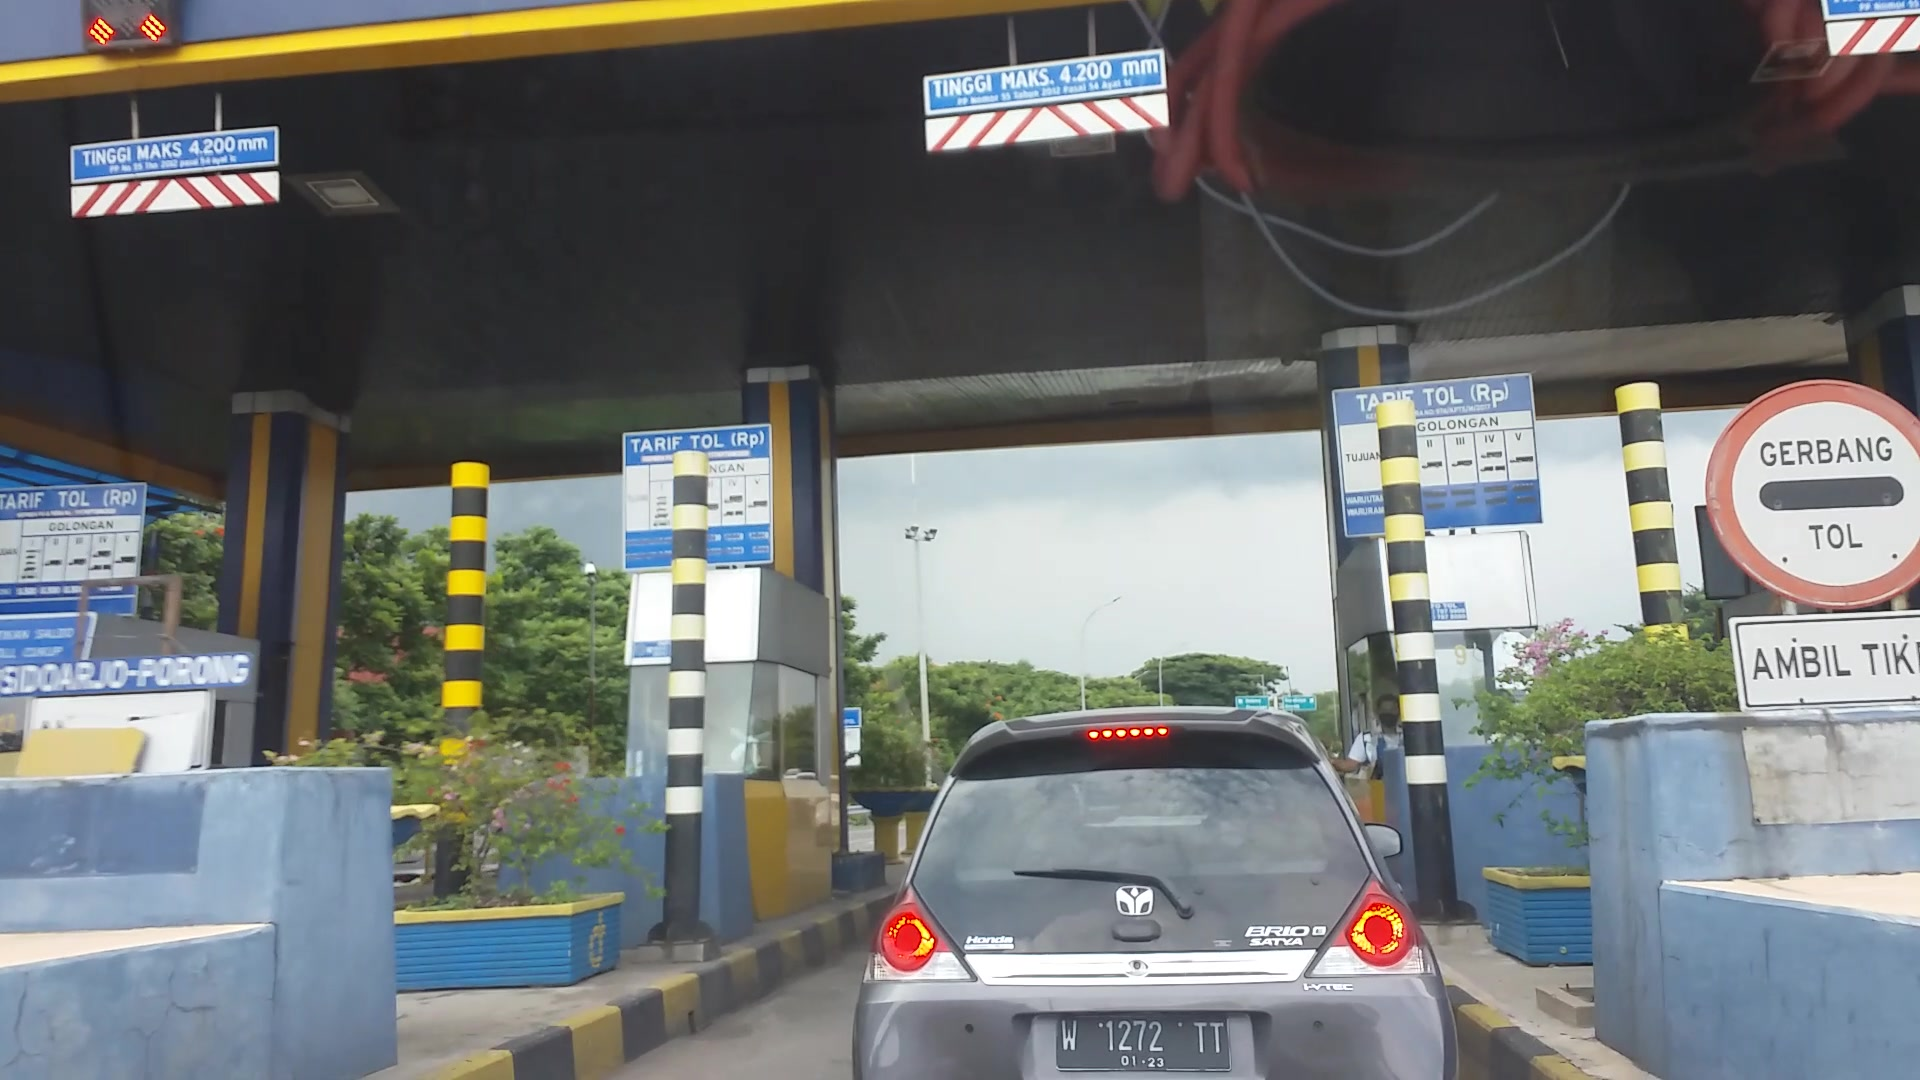plate_positive: (1055, 1014, 1230, 1072)
